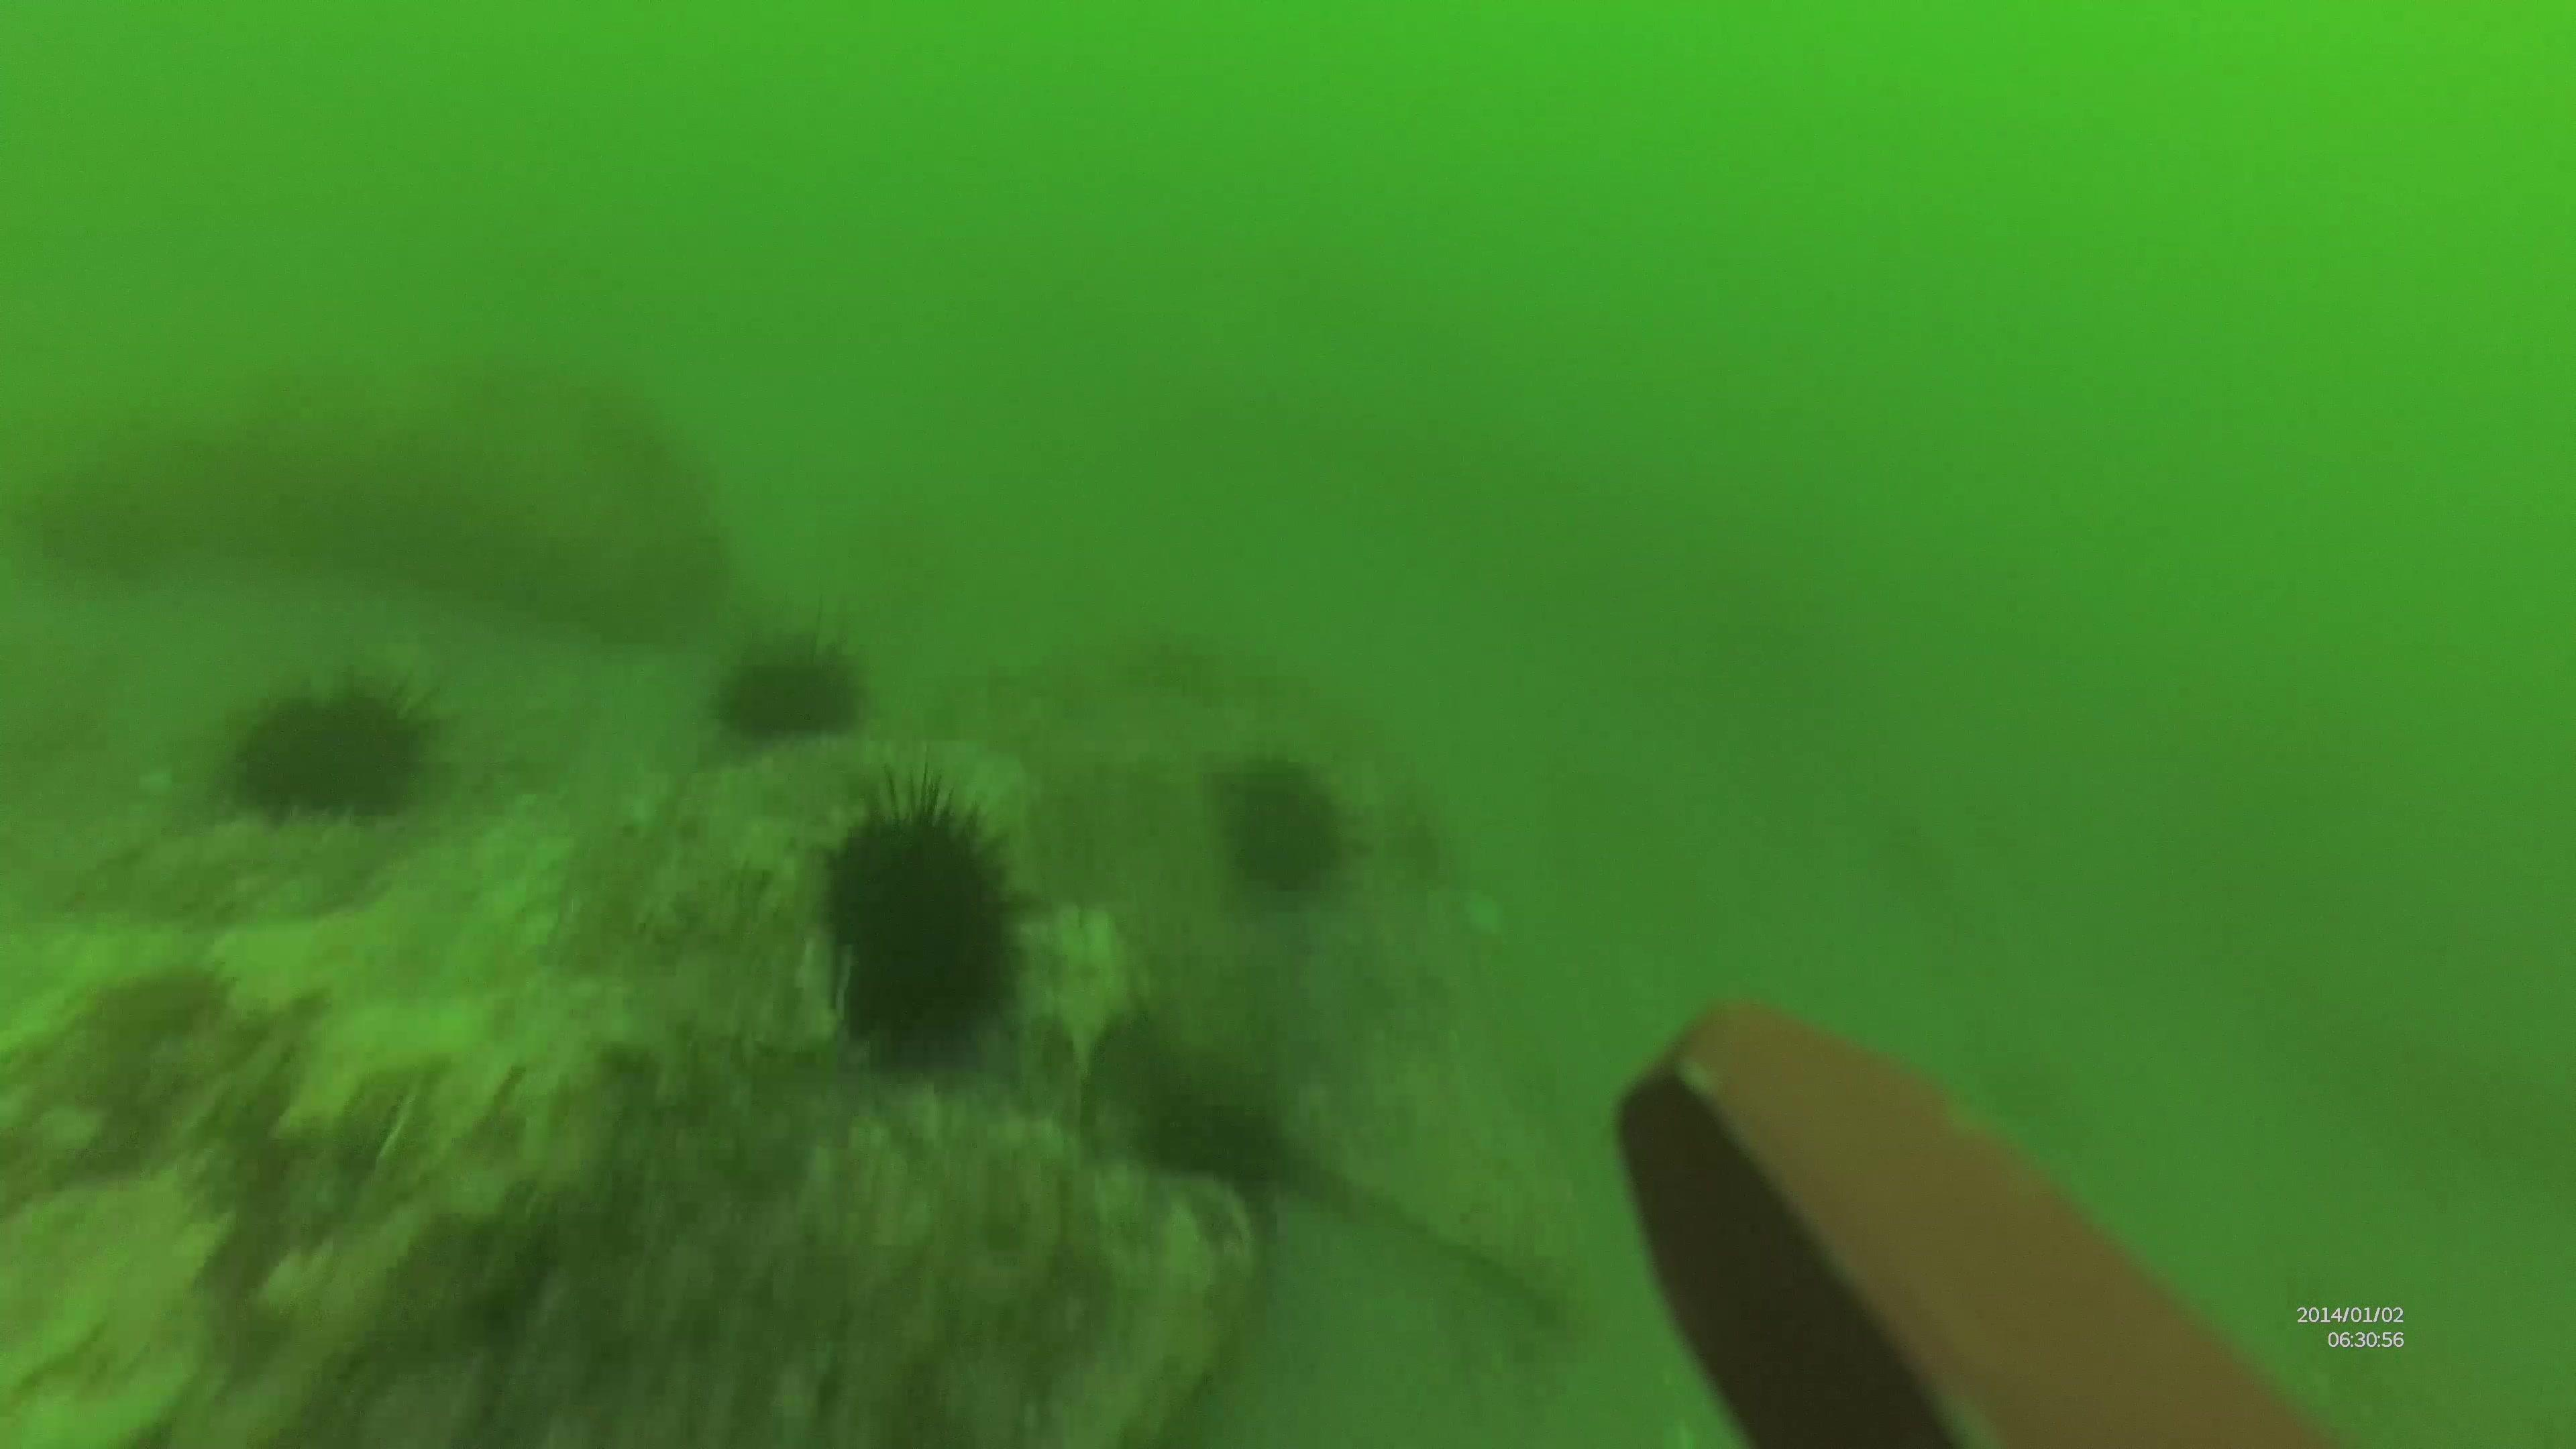echinus: (819, 766, 1031, 1083), (228, 665, 439, 819), (1228, 750, 1353, 902), (720, 633, 863, 741)
